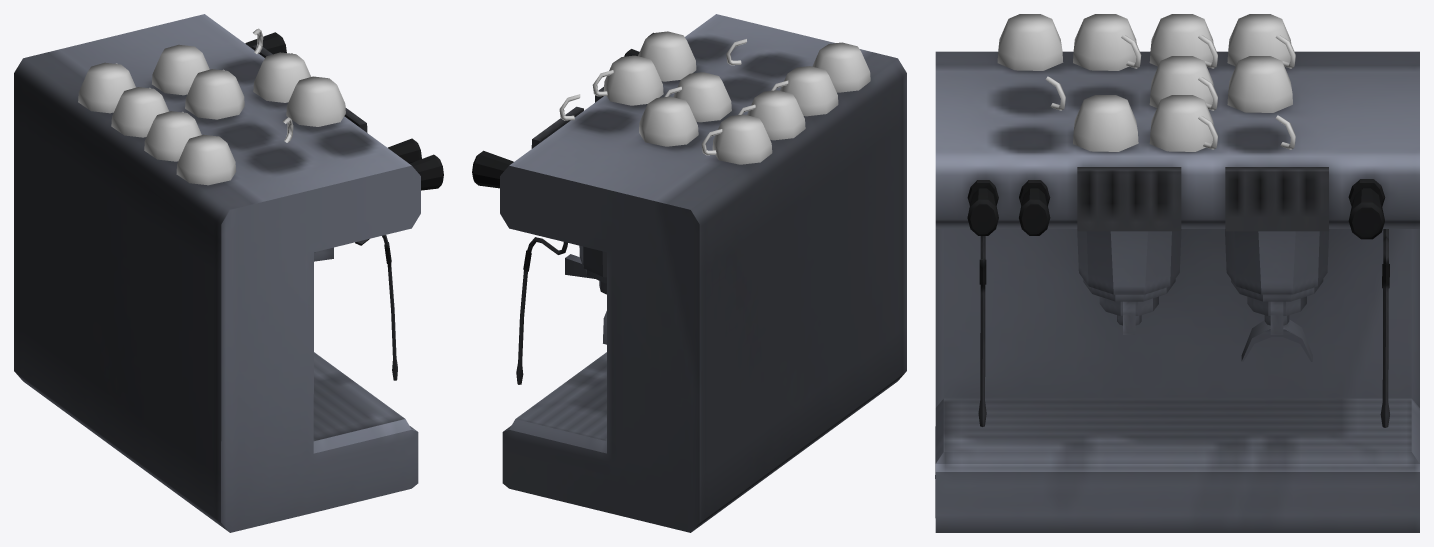
File: Tx_props_expresson_maker_48.fbx
The picture shows the model from 3 angles, left to right: view 1: azimuth 30°, elevation 25°; view 2: azimuth 150°, elevation 25°; view 3: azimuth 270°, elevation 25°; orthographic projection. The views are drawn at different scales.
Parts seen in each view (by area): view 1: Tx_props_expresson_maker; view 2: Tx_props_expresson_maker; view 3: Tx_props_expresson_maker.
Boxes of the visible parts, x1=… form: Tx_props_expresson_maker: x1=14, y1=14, x2=443, y2=532; Tx_props_expresson_maker: x1=472, y1=14, x2=906, y2=532; Tx_props_expresson_maker: x1=935, y1=14, x2=1419, y2=532.
Bounding box in the file's own units: 3.14 × 4.37 × 4.62.
